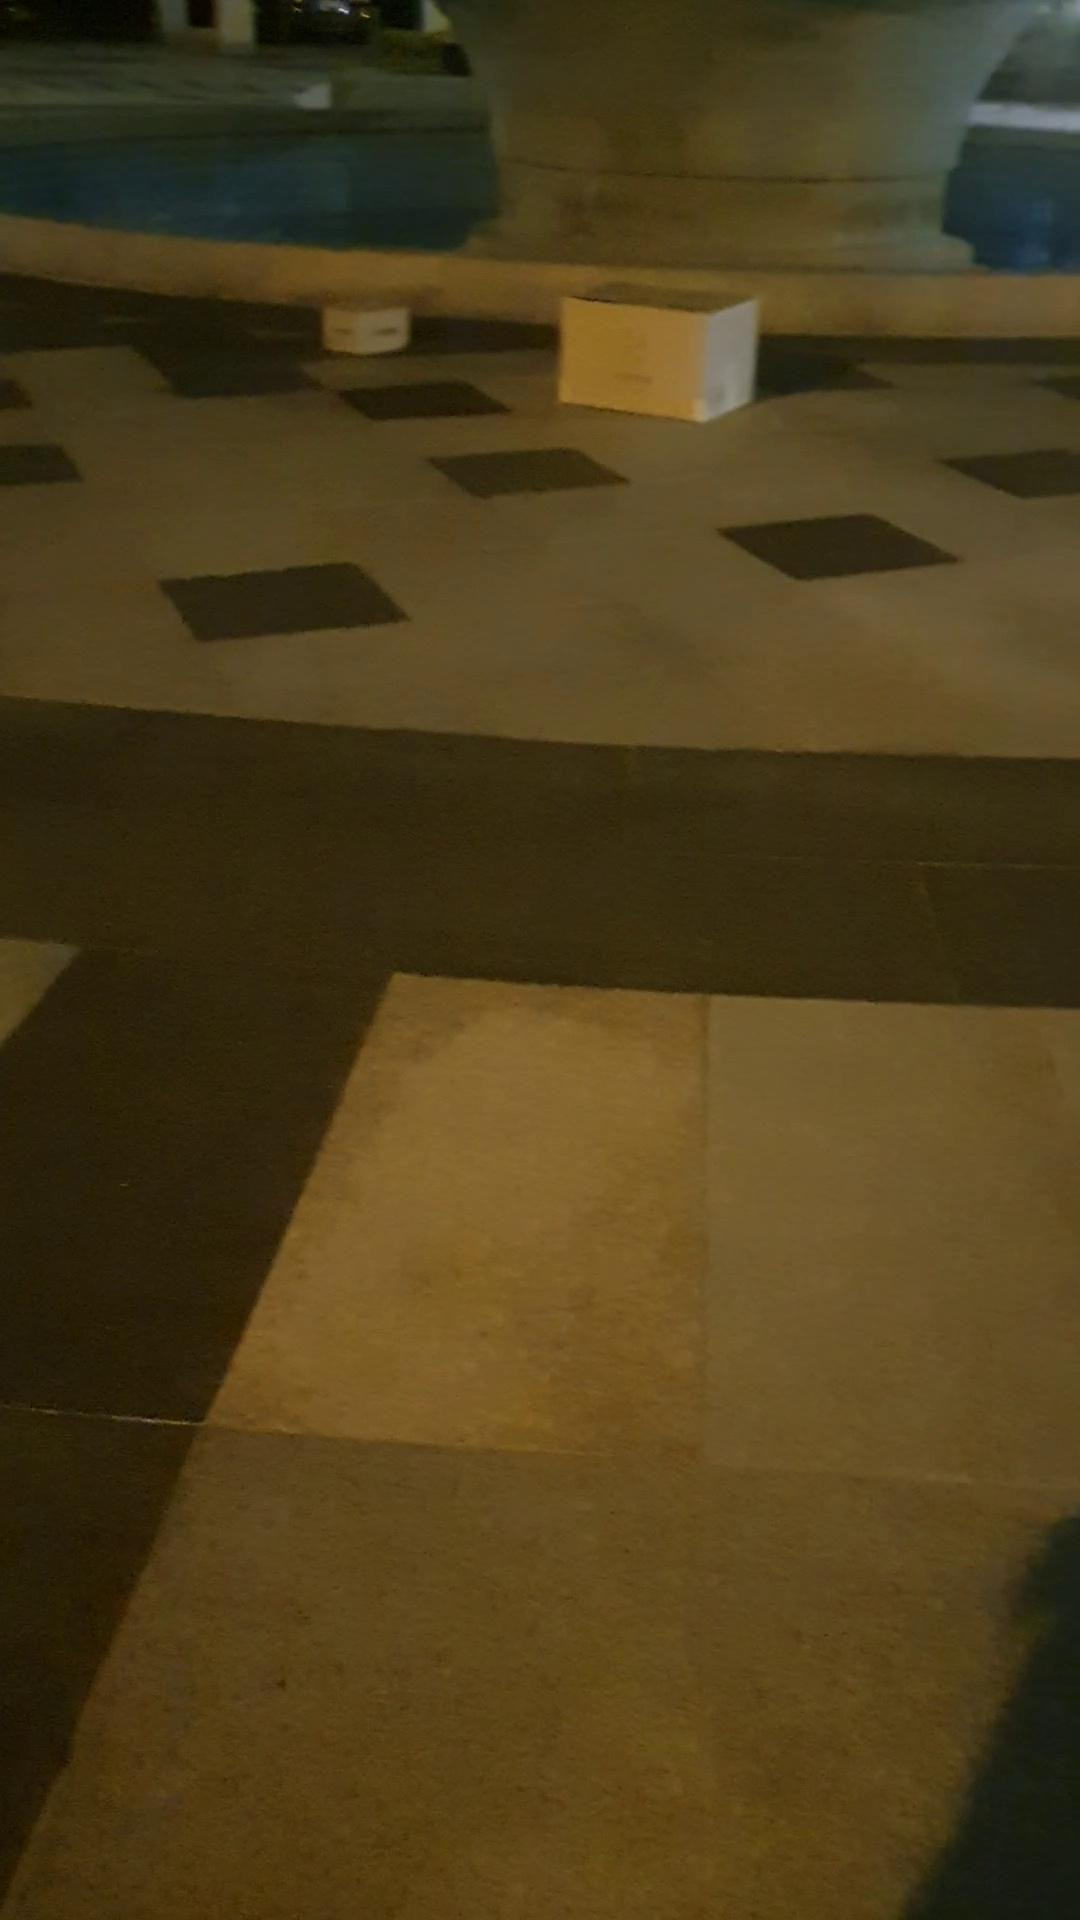Box: (553, 276, 769, 427), (313, 285, 422, 371)
